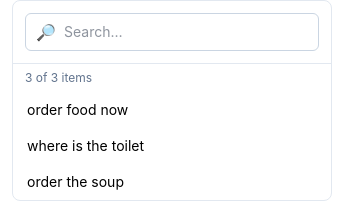
SearchableList › shows an empty state when nothing matches
This screenshot has width=349, height=218.
Type "zzz" into the search field. click: (186, 32)
box: [64,22,308,42]
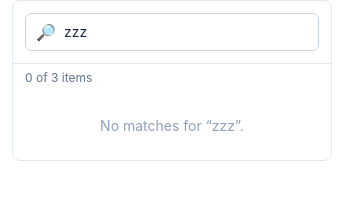
expect the list item "No matches for “zzz”." is shown: met, box [100,117,244,134]
